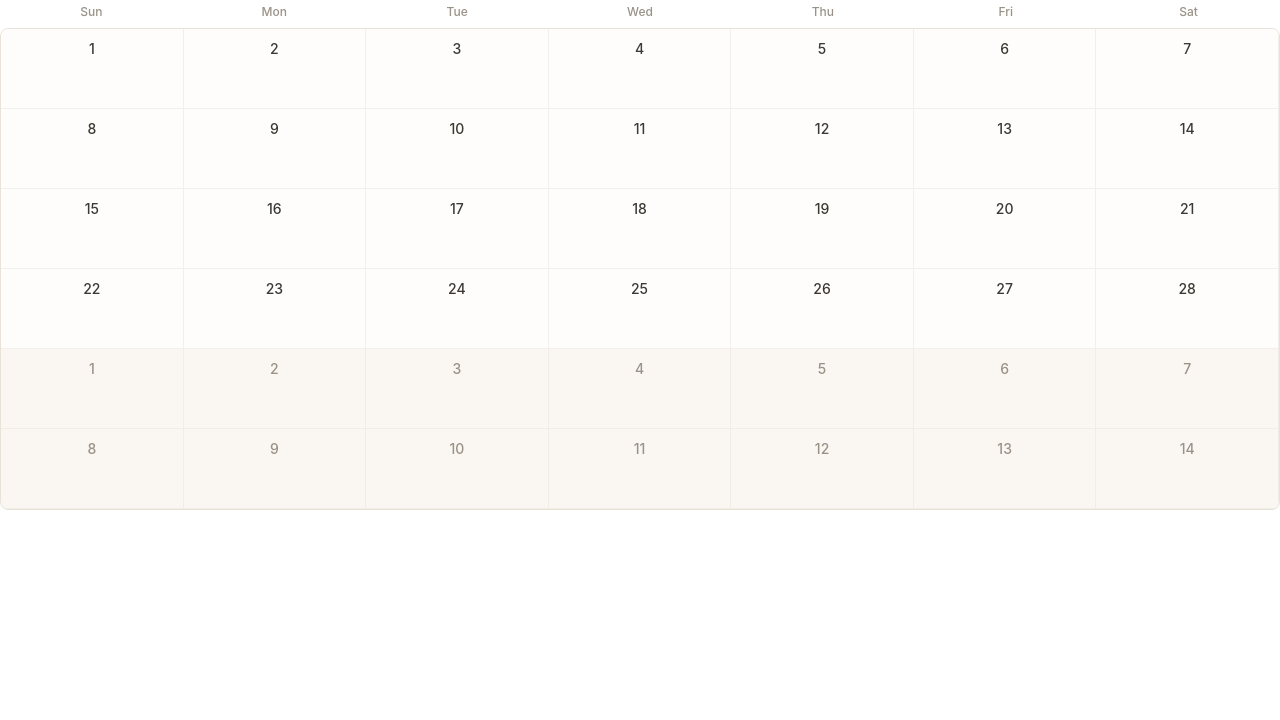
Test: MonthView › desktop mode › shows quick-add popover with "New Task" and "New Event" when clicking an empty day
// Click on an empty day (day 15 has no tasks or events)
Click the text "15". click: [92, 208]
box: [85,200,99,217]
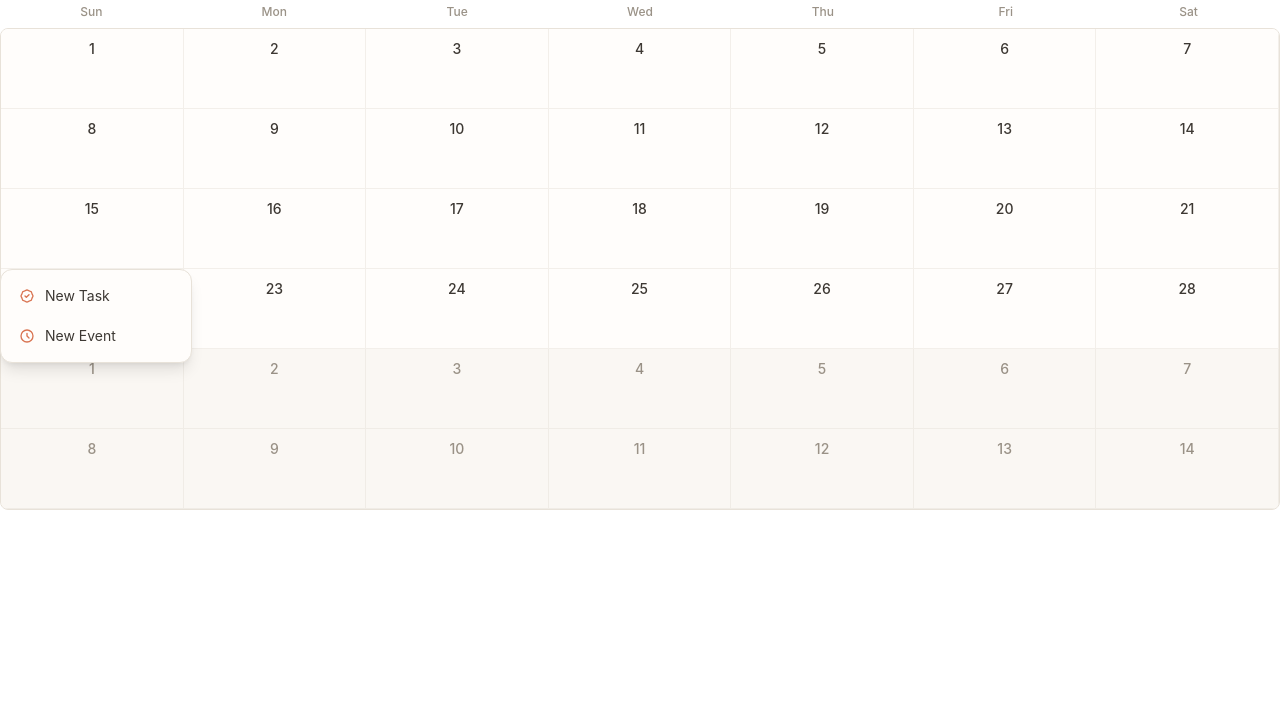
Expected: the button "New Task" is shown, [7,276,185,316]
Expected: the button "New Event" is shown, [7,316,185,356]
